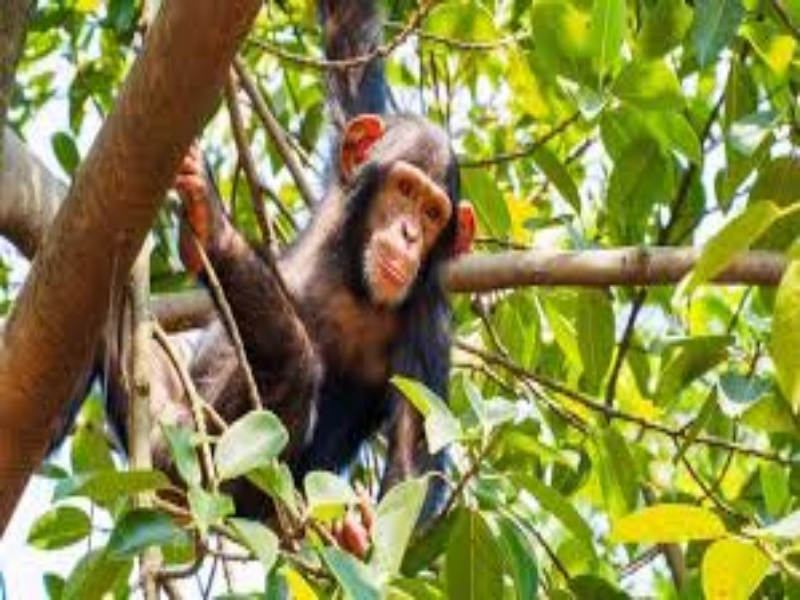monkey: (184, 113, 485, 558)
